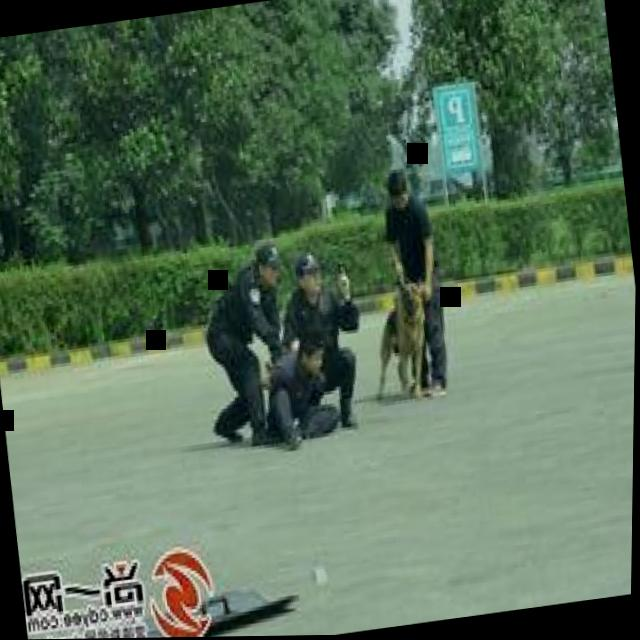Fall-Detected: (246, 320, 374, 453)
